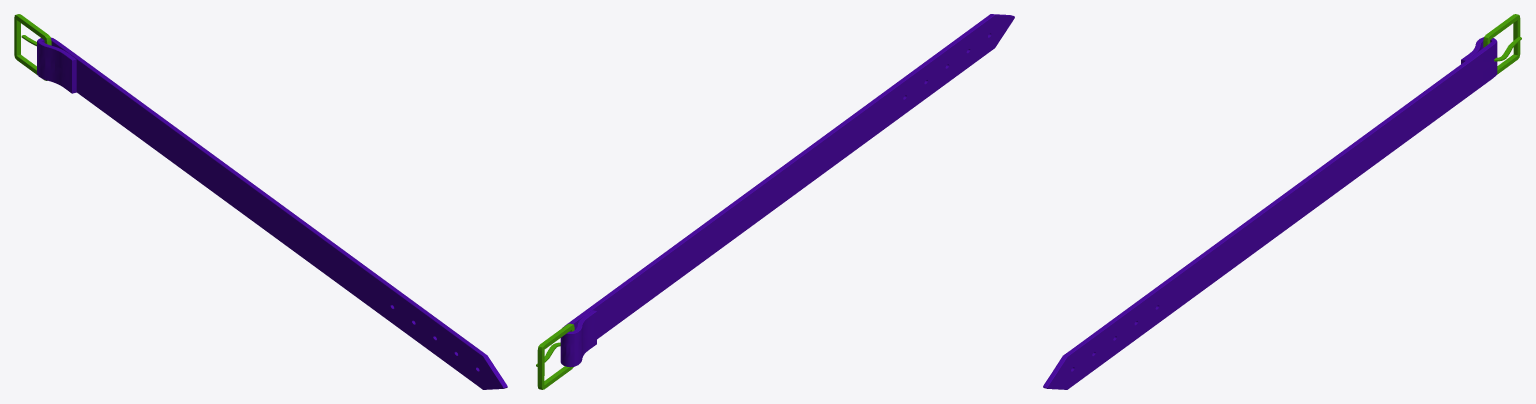
Rendered from ASS_leatherbelt_v000.fbx.
The picture shows the model from 3 angles, left to right: view 1: azimuth 30°, elevation 25°; view 2: azimuth 150°, elevation 25°; view 3: azimuth 330°, elevation 25°; orthographic projection.
Visible parts, largest first — view 1: Belt, Buckle; view 2: Belt, Buckle; view 3: Belt, Buckle.
Boxes of the visible parts, left/top/right/bottom form: Belt: left=37, top=37, right=507, bottom=389; Buckle: left=14, top=14, right=51, bottom=80; Belt: left=560, top=14, right=1014, bottom=367; Buckle: left=536, top=323, right=574, bottom=389; Belt: left=1043, top=37, right=1497, bottom=389; Buckle: left=1483, top=14, right=1521, bottom=74.
Bounding box in the file's own units: 2.45 × 4.62 × 90.77.
